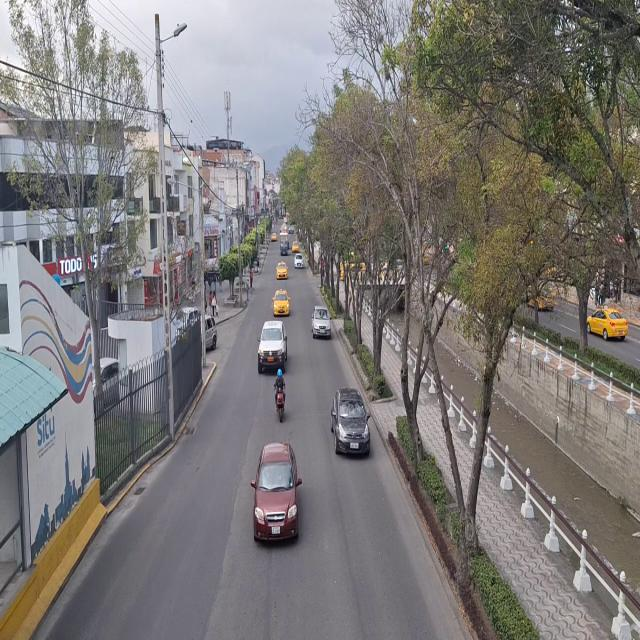CMT: (258, 321, 288, 374)
MOTORCYCLE: (274, 388, 286, 425)
SED: (333, 391, 369, 459), (586, 312, 624, 341), (312, 306, 332, 337)
SUV: (254, 442, 300, 541)
